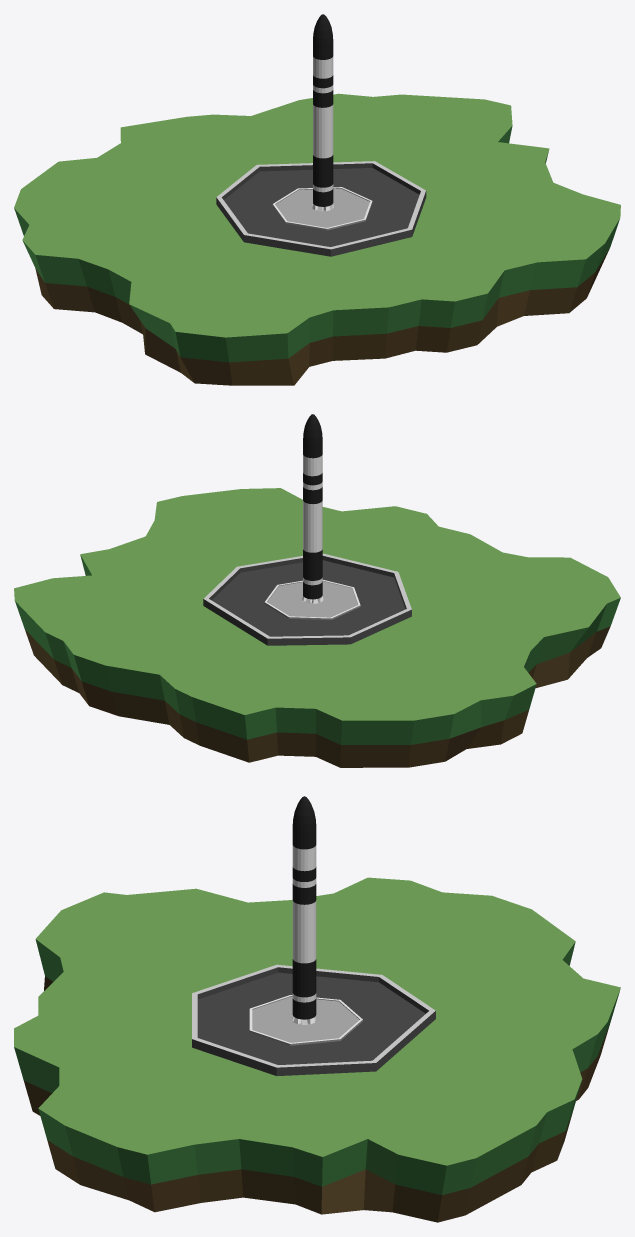
File: electron.gltf
The picture shows the model from 3 angles, top to bottom: view 1: azimuth 30°, elevation 25°; view 2: azimuth 150°, elevation 25°; view 3: azimuth 270°, elevation 25°; orthographic projection. The views are drawn at different scales.
Visible parts, largest first — view 1: Plane, Circle, Cylinder, Cylinder.001; view 2: Plane, Circle, Cylinder, Cylinder.001; view 3: Plane, Circle, Cylinder, Cylinder.001.
Boxes of the visible parts, x1,y1,x2,y2 form: Plane: (14, 93, 620, 385); Circle: (216, 161, 426, 256); Cylinder: (313, 14, 333, 206); Cylinder.001: (272, 187, 372, 230); Plane: (14, 488, 620, 767); Circle: (203, 553, 411, 645); Cylinder: (303, 414, 322, 599); Cylinder.001: (264, 580, 360, 619); Plane: (14, 877, 620, 1222); Circle: (192, 964, 435, 1075); Cylinder: (292, 796, 316, 1019); Cylinder.001: (249, 995, 362, 1045).
Bounding box in the file's own units: 8.06 × 3.84 × 7.18.
